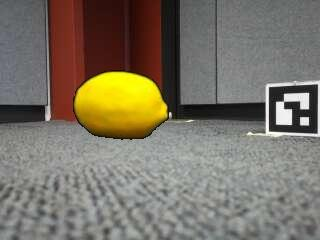lemon: (75, 72, 168, 138)
